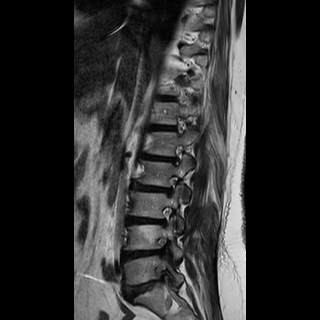RFS1: (161, 141, 192, 170), (149, 204, 182, 230)
RFS2: (153, 171, 188, 203)
